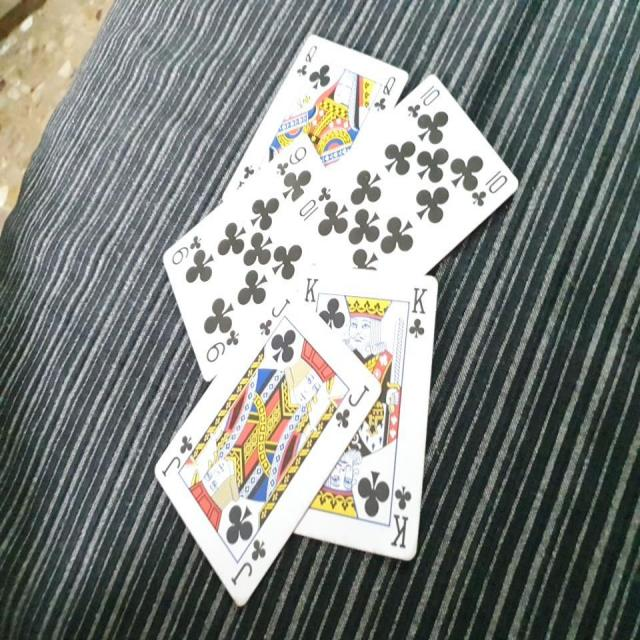10 Trefoils: (294, 72, 518, 271)
9 Trefoils: (161, 128, 324, 383)
J Trefoils: (154, 287, 382, 608)
K Trefoils: (292, 268, 439, 558)
Q Trefoils: (223, 32, 410, 201)
